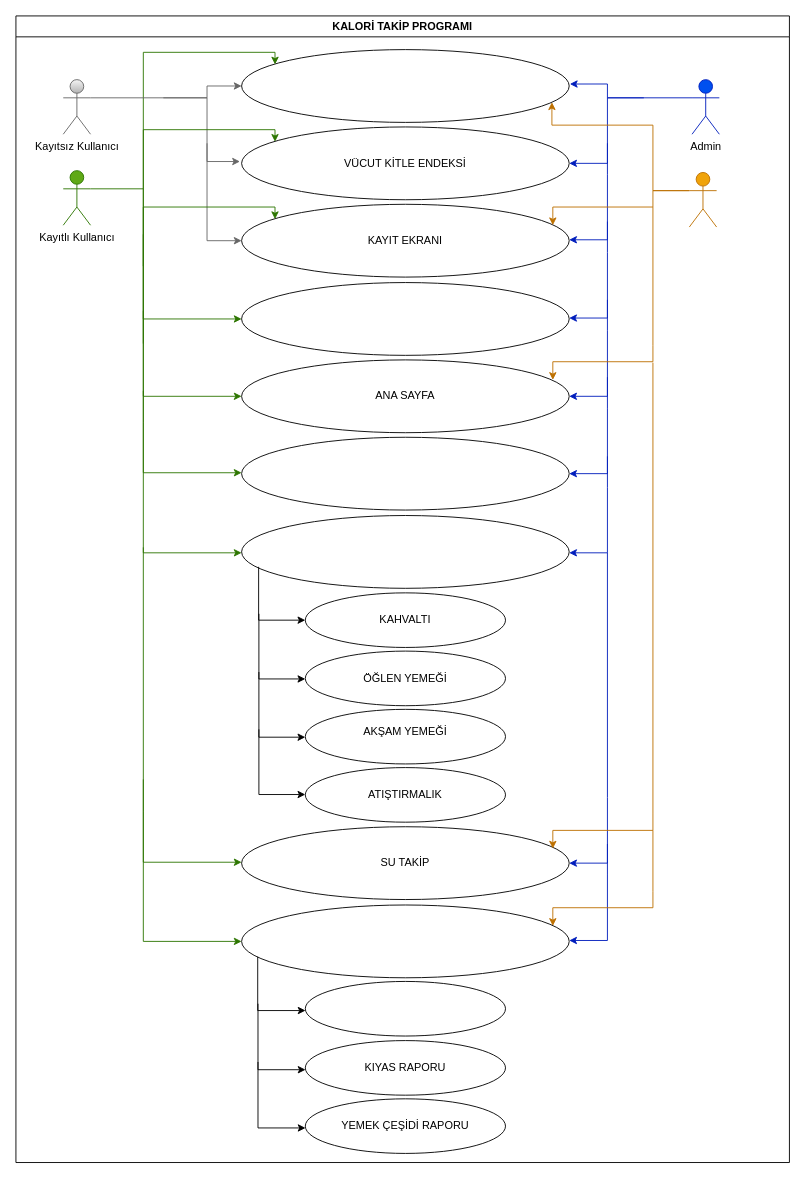
This 805x1178 diagram has some shape labels left out. The shapes that lost their labels are listed below. From the top down, each one's centre as x and y in pixels, then its label:
At pixel 405 85: "GİRİŞ EKRANI".
At pixel 702 199: "DİYETİSYEN".
At pixel 405 318: "KAYITLI GİRİŞ EKRANI".
At pixel 405 473: "KAÇ KALORİ".
At pixel 405 551: "KALORİ TAKİP".
At pixel 405 941: "RAPORLAR".
At pixel 405 1008: "GÜN SONU RAPORU".
